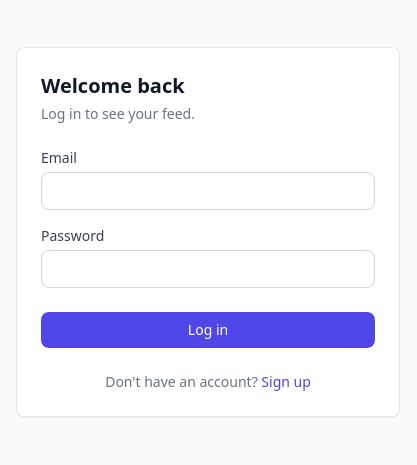
Test: LoginPage › shows the API error and stays on the page when login fails
Type "ada@example.com" into the field labelled "Email". click: (208, 191)
box: [41,172,375,210]
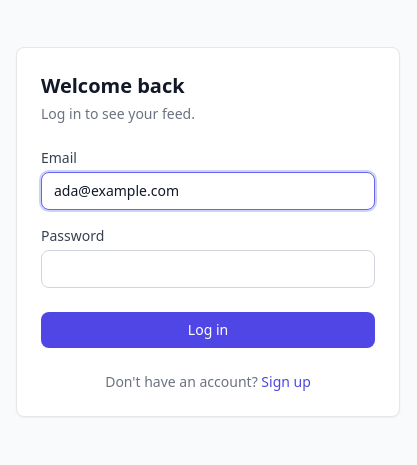
Type "wrong" into the password field labelled "Password". click: (208, 269)
box: [41,250,375,288]
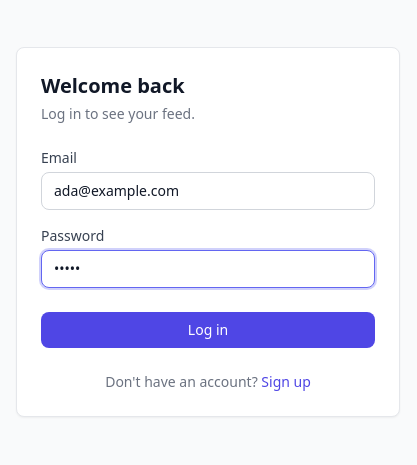
Click the button "Log in". click: (208, 330)
box: [41,312,375,348]
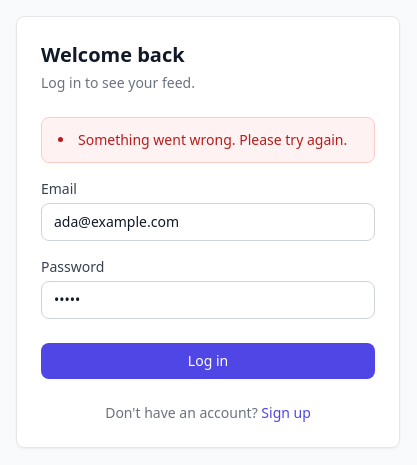
Check: the list item "Something went wrong. Please try again." is shown, box [58,130,358,150]
